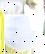with_mask: (1, 1, 45, 54)
